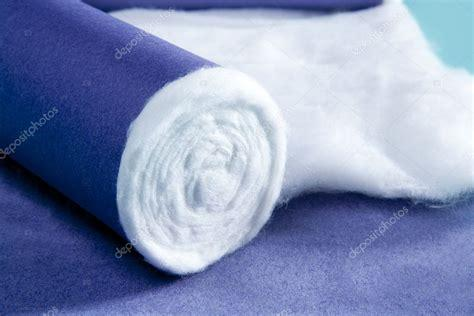cotton: (0, 1, 474, 274)
